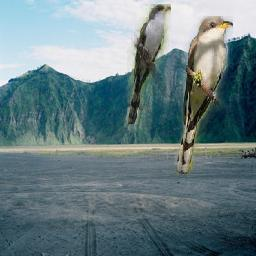Cuckoo: (175, 17, 234, 176), (127, 4, 171, 124)
